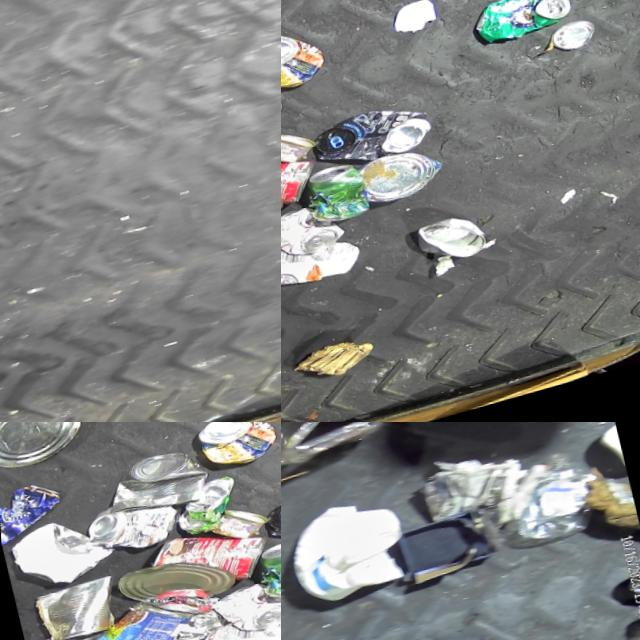can: (140, 518, 269, 607), (306, 102, 432, 181), (95, 445, 210, 527), (109, 548, 232, 622), (78, 492, 179, 563), (67, 588, 197, 640), (26, 573, 119, 640), (466, 0, 573, 56), (353, 148, 442, 214), (202, 577, 281, 640), (295, 162, 366, 232), (409, 215, 488, 277), (189, 422, 276, 477), (165, 477, 239, 541), (0, 422, 87, 476), (0, 475, 65, 543), (281, 201, 342, 269), (281, 28, 324, 101), (281, 142, 316, 231), (202, 503, 265, 551), (247, 538, 281, 607), (545, 27, 594, 64), (281, 127, 313, 175)
milk_jug: (281, 492, 409, 617)
